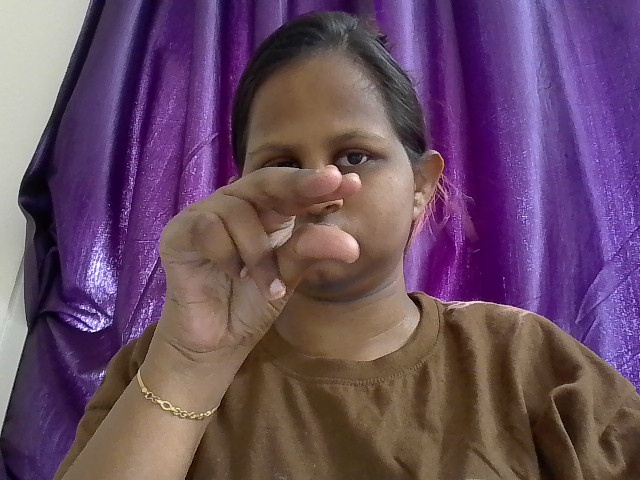NO: (53, 99, 449, 412)
